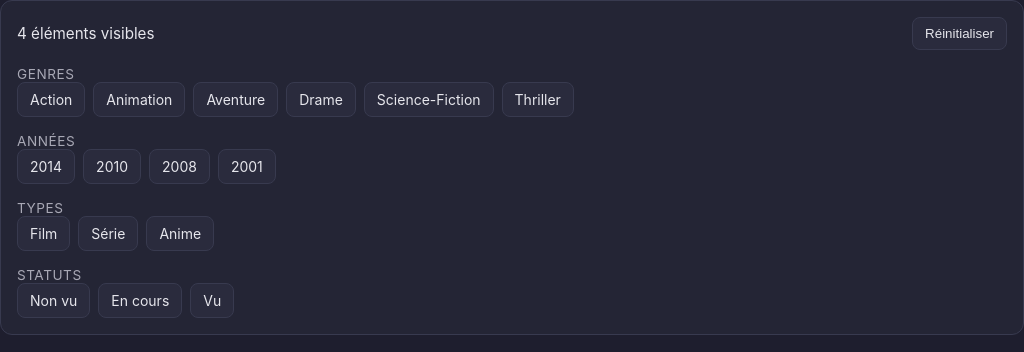
Test case: <FilterPanel> — genres (sélection multiple, union) › le compteur applique l'union (Drame OR Animation)
This screenshot has width=1024, height=352.
Click the button "Drame" at [321, 100], box 286,82 -> 356,117
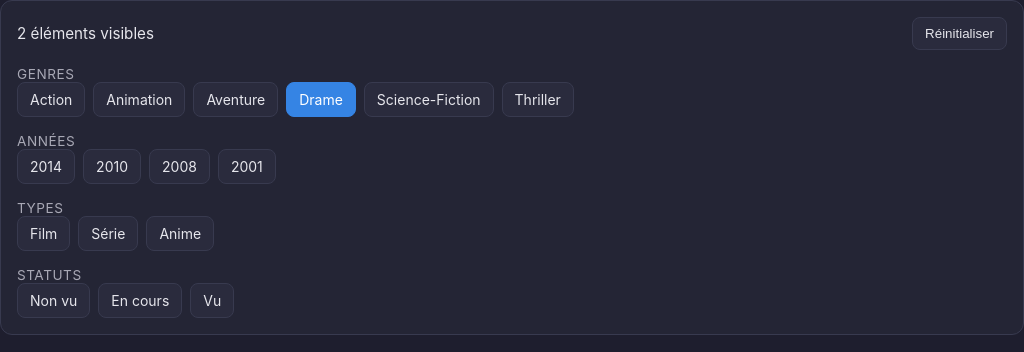
Click the button "Animation" at [139, 100], box 93,82 -> 185,117
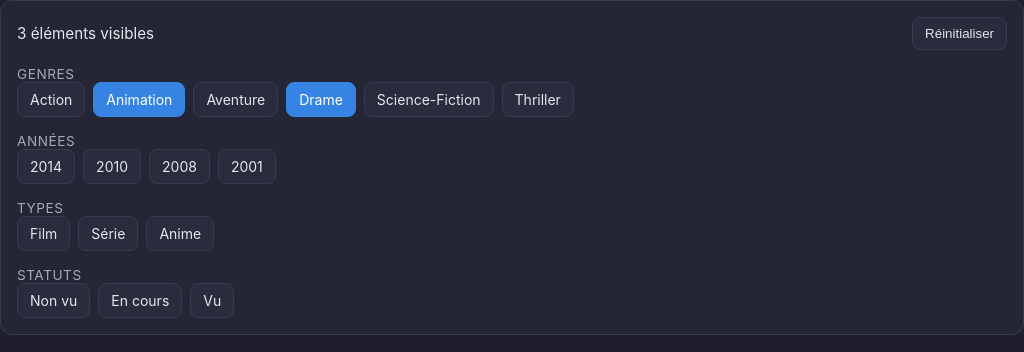
Now the text with test id "visible-count" reads "3 éléments visibles", box 17,24 -> 154,43
